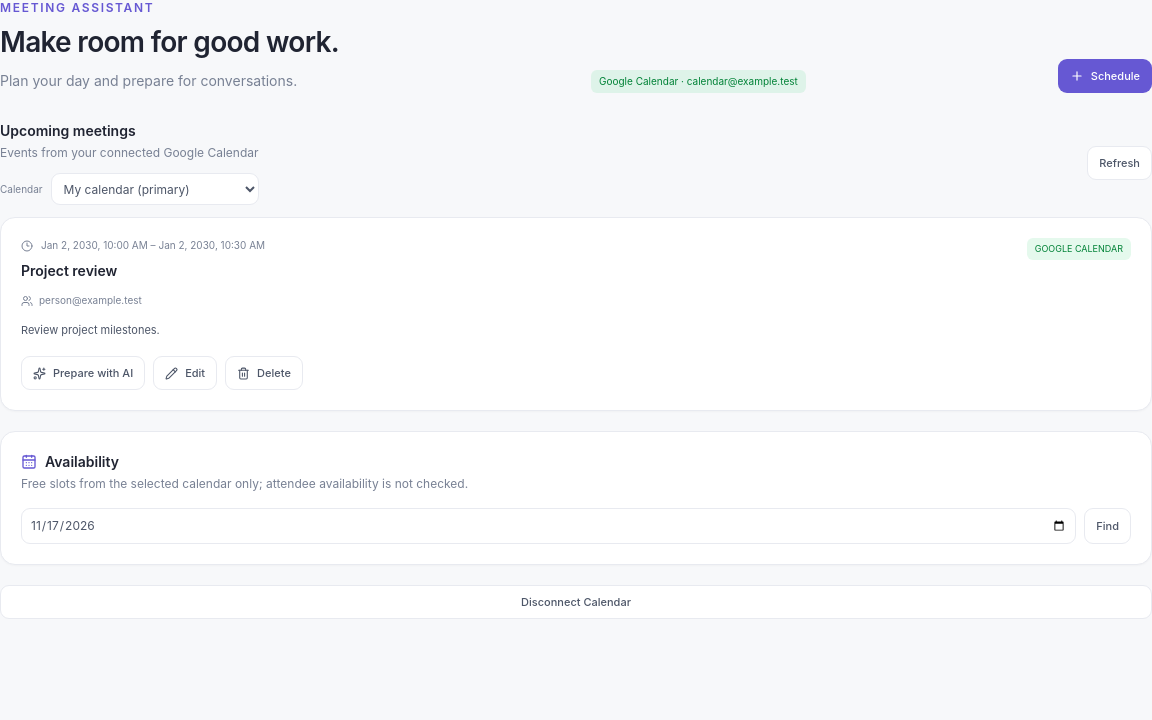
Test: Meetings page › shows event details and timezone before confirmed deletion
Click the button "Delete" at point(264, 373), box left=225, top=356, right=303, bottom=390
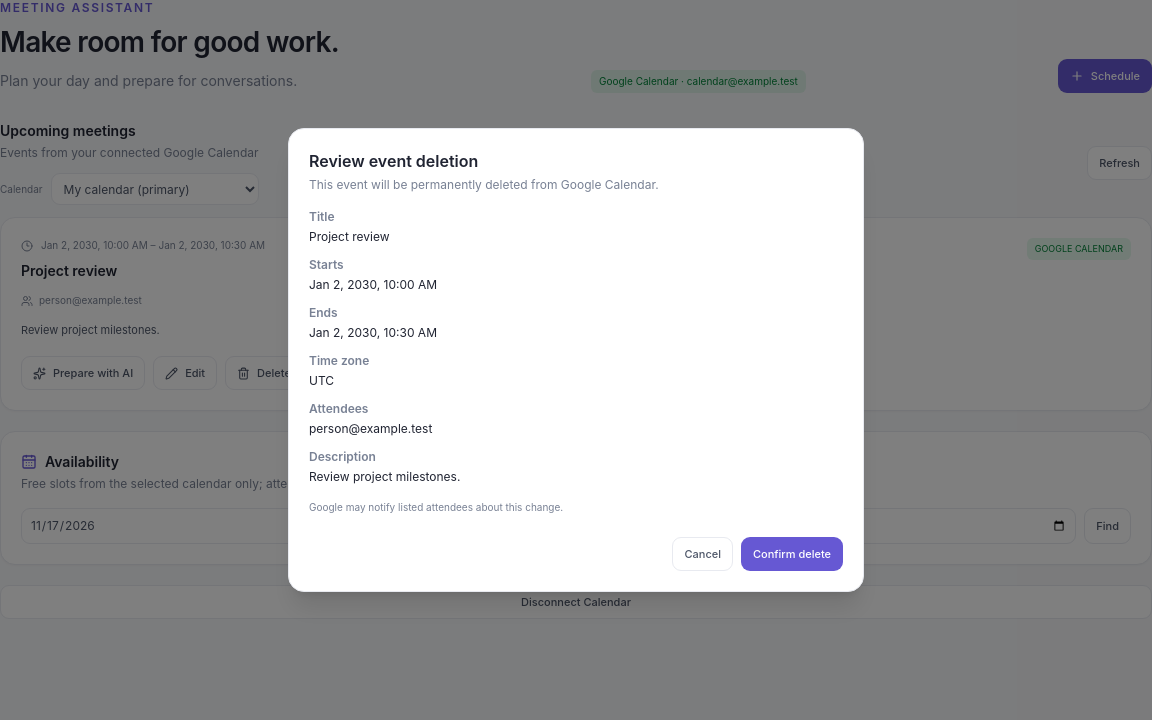
expect the dialog shows "Project review": met, box left=309, top=229, right=390, bottom=244
expect the dialog shows "UTC": met, box left=309, top=373, right=334, bottom=388
Click the button "Confirm delete" at point(792, 554), box left=741, top=537, right=843, bottom=571
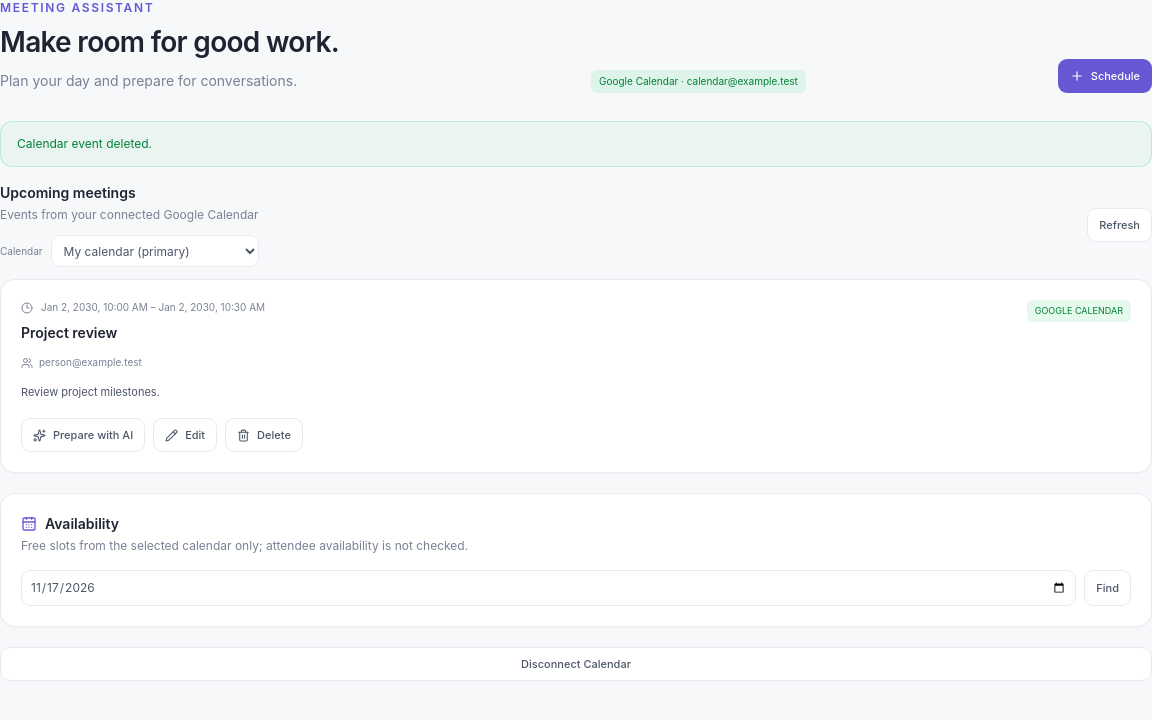
expect the text "Calendar event deleted." is shown: met, box left=0, top=121, right=1151, bottom=167
